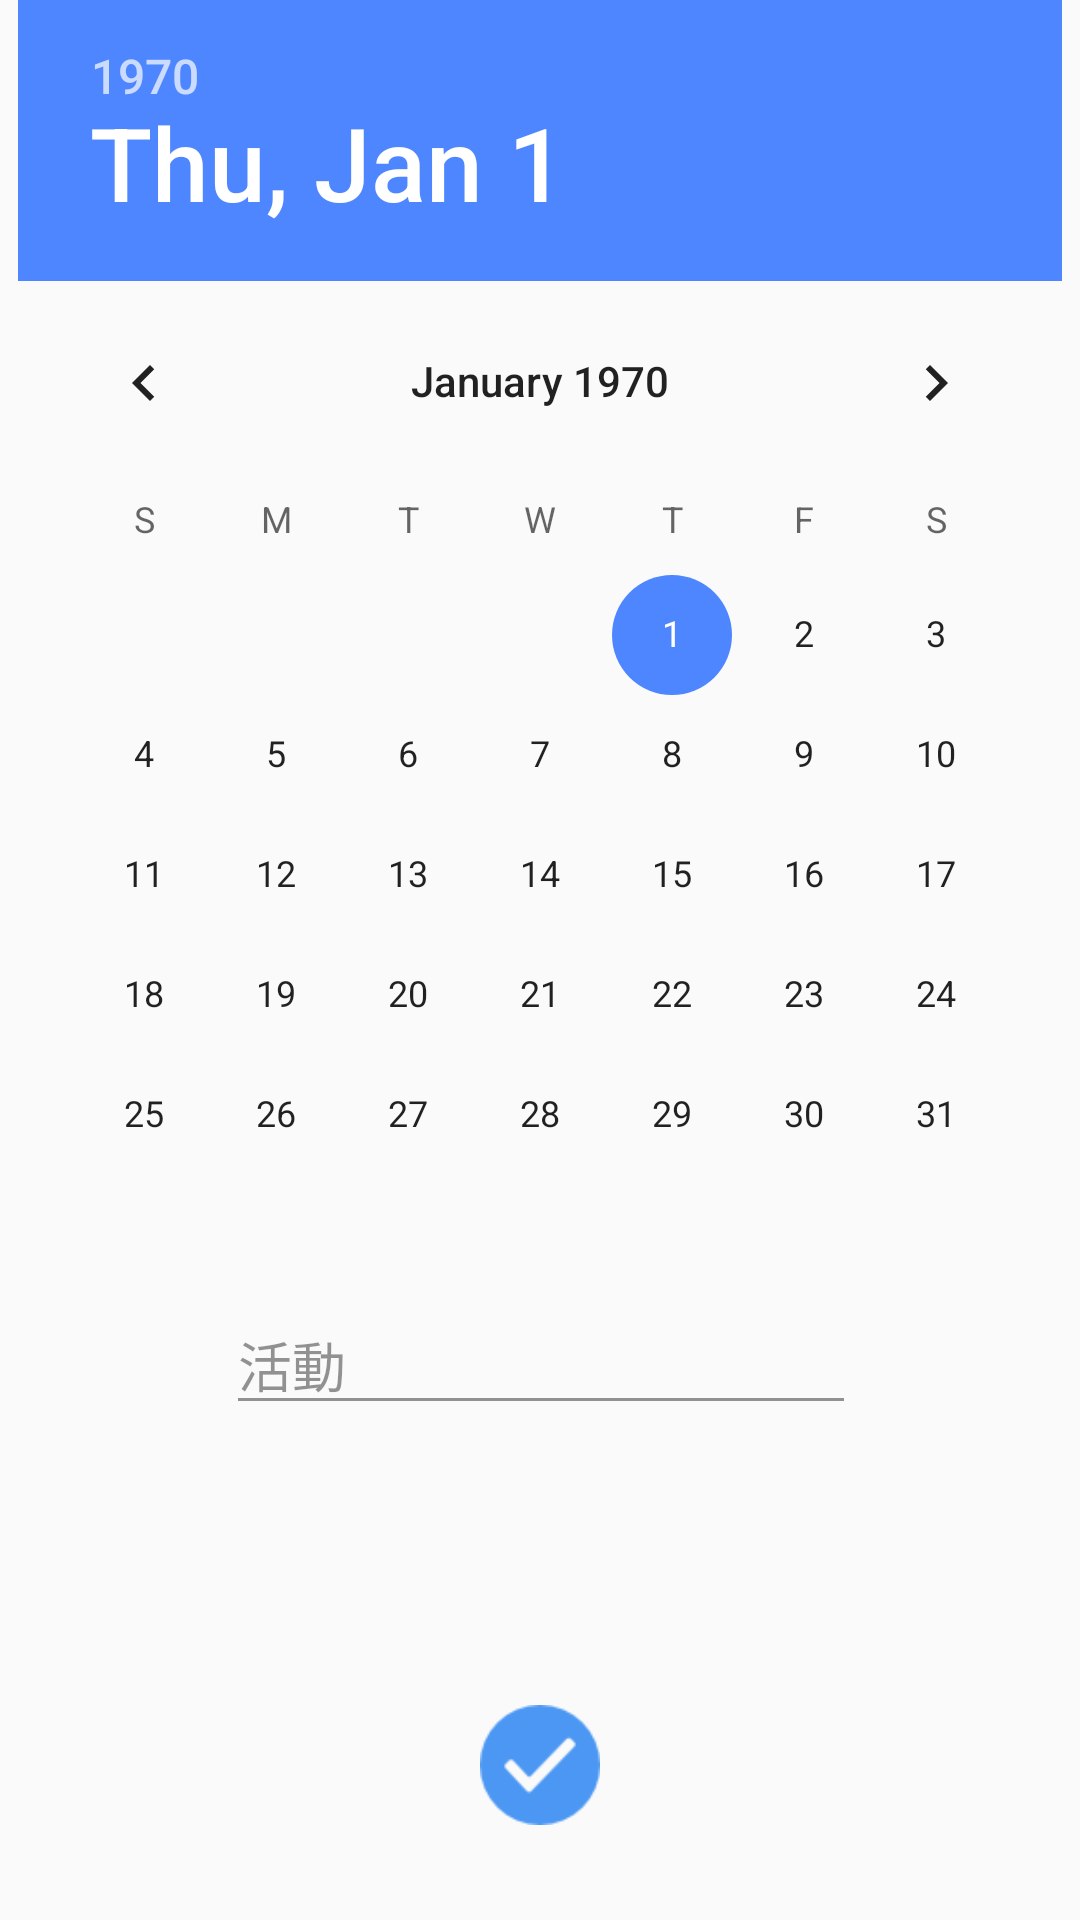

Where icons sit on this 1080×1920 app screen, as {"left": x1, "top": y1, "right": x2, "bottom": y2}:
checked: {"left": 480, "top": 1705, "right": 600, "bottom": 1825}
